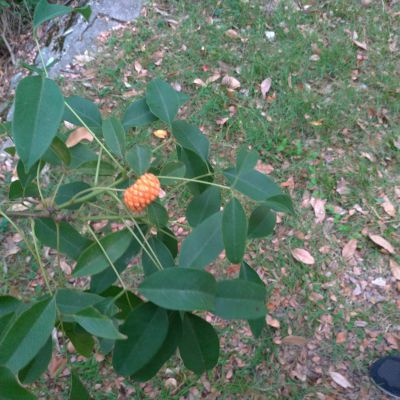eggs: (121, 170, 166, 214)
